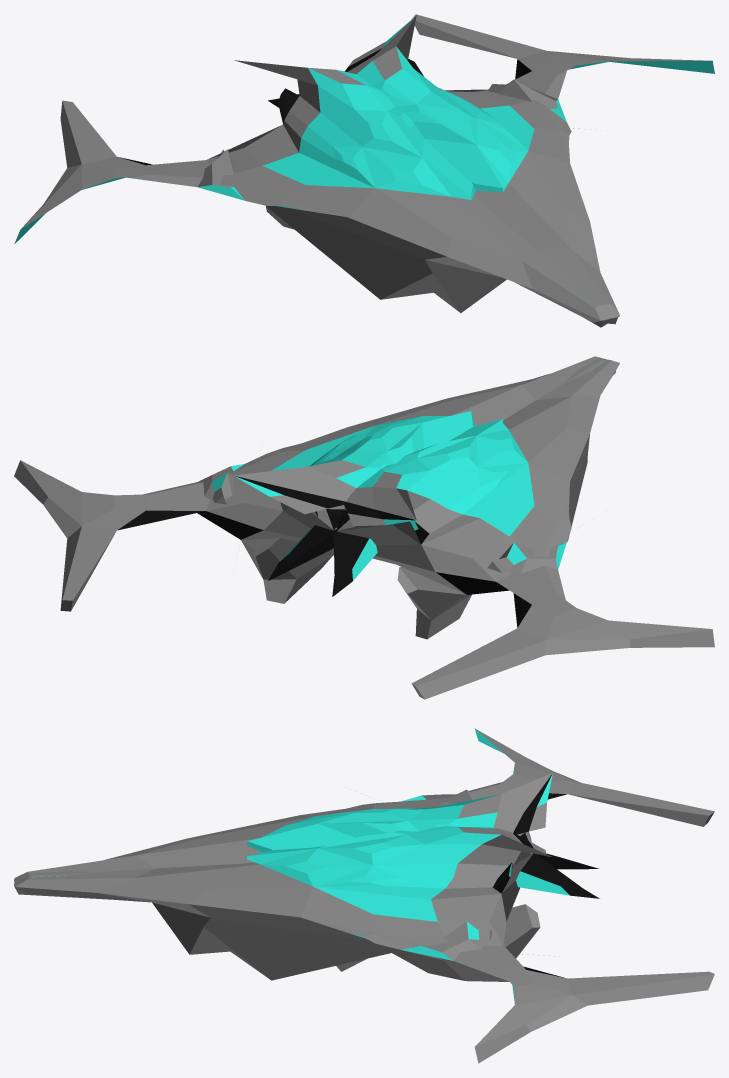
Rendered from assault.glb.
The picture shows the model from 3 angles, top to bottom: view 1: azimuth 30°, elevation 25°; view 2: azimuth 150°, elevation 25°; view 3: azimuth 270°, elevation 25°; orthographic projection. The views are drawn at different scales.
Visible parts, largest first — view 1: Cube; view 2: Cube; view 3: Cube.
Boxes of the visible parts, <box> form: Cube: <box>14,14,714,327</box>; Cube: <box>14,356,714,699</box>; Cube: <box>14,728,714,1063</box>.
Bounding box in the file's own units: 7.99 × 1.54 × 7.34.
